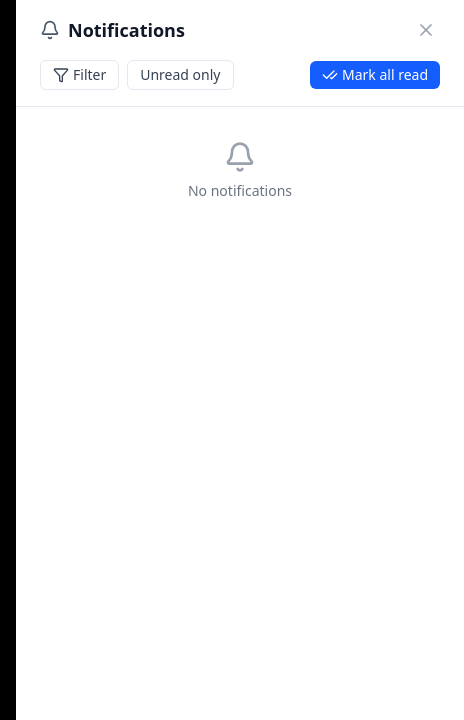
NotificationCenter › should show empty unread state when filtering unread only
This screenshot has width=464, height=720.
Note: Click unread only filter
Step 1. Click the button "Unread only" → (180, 75), box [127,60,234,90]
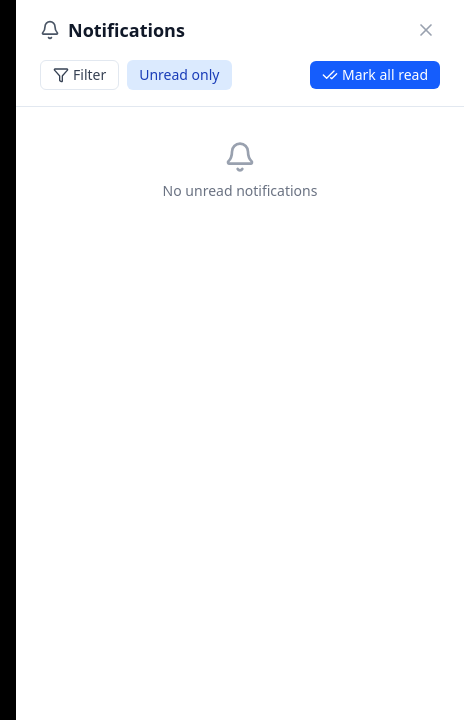
Expected: the text "No unread notifications" is shown, [163,181,317,201]
